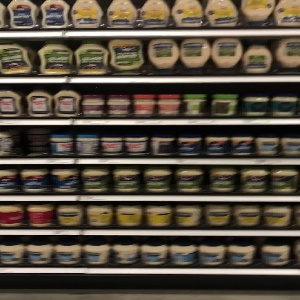void: (14, 126, 49, 159)
